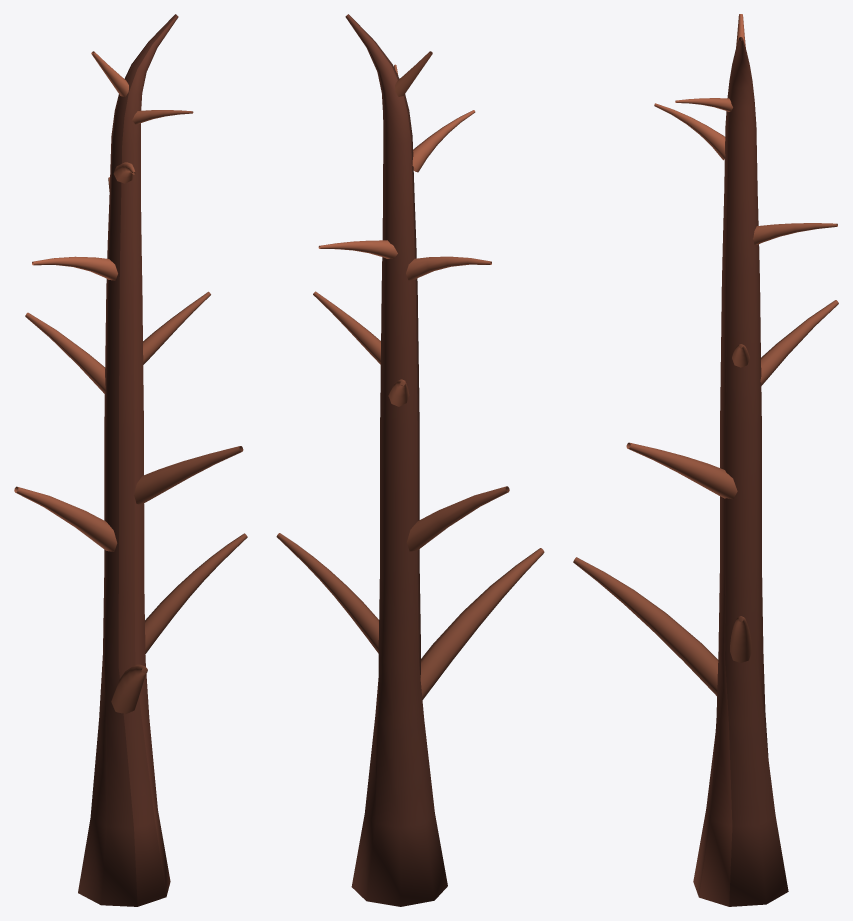
File: Naked_Tree_02.fbx
The picture shows the model from 3 angles, left to right: view 1: azimuth 30°, elevation 25°; view 2: azimuth 150°, elevation 25°; view 3: azimuth 270°, elevation 25°; orthographic projection.
Parts seen in each view (by area): view 1: Naked_Tree_02; view 2: Naked_Tree_02; view 3: Naked_Tree_02.
Boxes of the visible parts, x1,y1,x2,y2 form: Naked_Tree_02: (14, 14, 247, 906); Naked_Tree_02: (276, 14, 544, 906); Naked_Tree_02: (573, 14, 838, 906).
Size of the model in its own units: 270 by 958 by 264.
